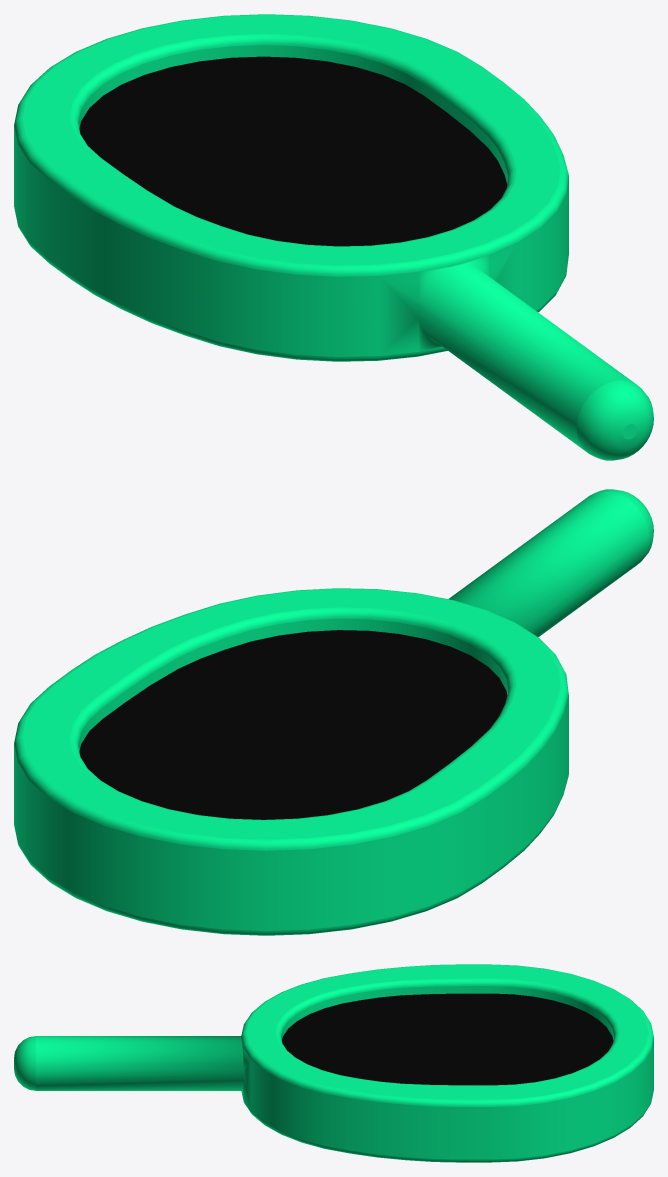
Rendered from mirror.fbx.
3 views of the same model, one above another, from view 1: azimuth 30°, elevation 25°; view 2: azimuth 150°, elevation 25°; view 3: azimuth 270°, elevation 25° (orthographic). The views are drawn at different scales.
Visible parts, largest first — view 1: Mirror; view 2: Mirror; view 3: Mirror.
Boxes of the visible parts, x1,y1,x2,y2 form: Mirror: (14, 14, 653, 460); Mirror: (14, 489, 653, 935); Mirror: (14, 964, 653, 1162).
Size of the model in its own units: 240 by 50 by 465.
